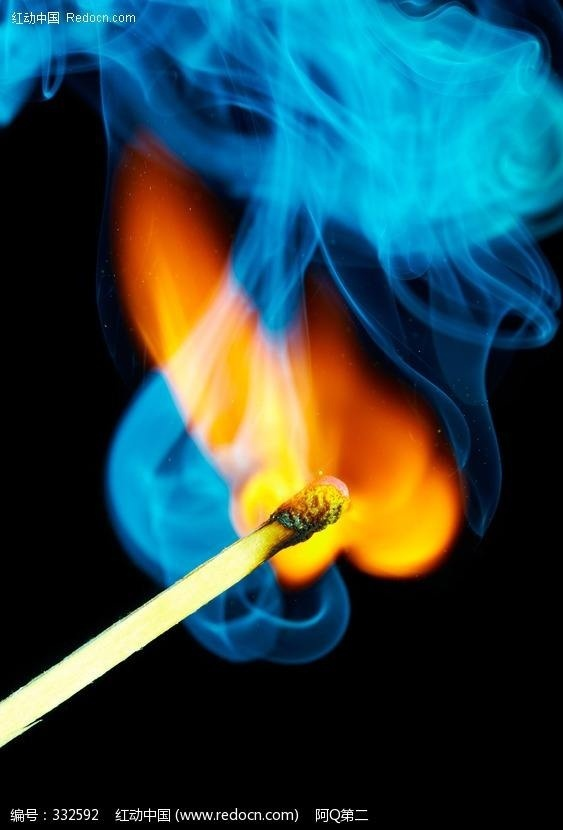fire: (101, 137, 462, 594)
